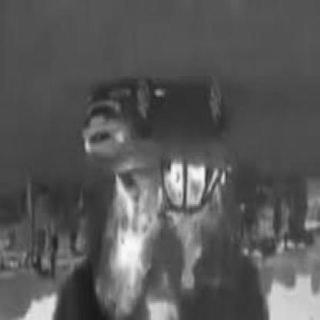Fire: (76, 158, 244, 306)
